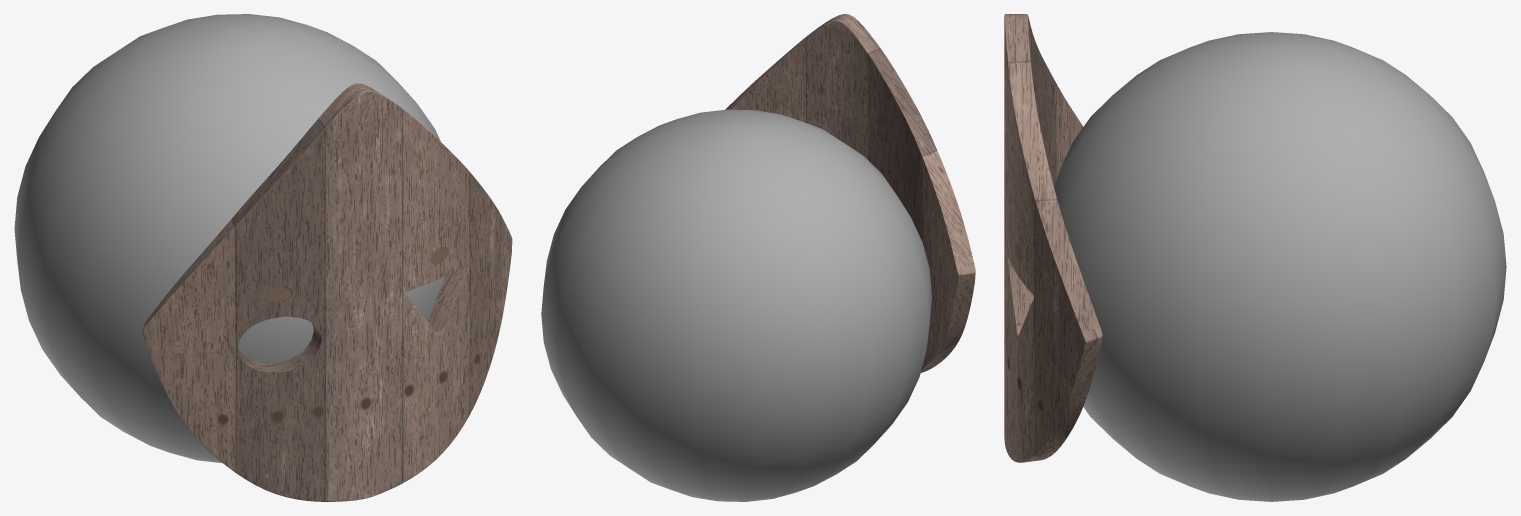
File: BasePlayer.fbx
3 views of the same model, side by side, from view 1: azimuth 30°, elevation 25°; view 2: azimuth 150°, elevation 25°; view 3: azimuth 270°, elevation 25° (orthographic). The views are drawn at different scales.
Parts seen in each view (by area): view 1: baseMask, outerSphere; view 2: outerSphere, baseMask; view 3: outerSphere, baseMask.
Boxes of the visible parts, x1,y1,x2,y2 form: baseMask: (142,83,512,501); outerSphere: (14,14,444,463); outerSphere: (541,109,931,501); baseMask: (725,14,975,372); outerSphere: (1053,32,1506,501); baseMask: (1004,14,1102,462).
Size of the model in its own units: 200 by 218 by 214.
2 materials, 1 textured.
